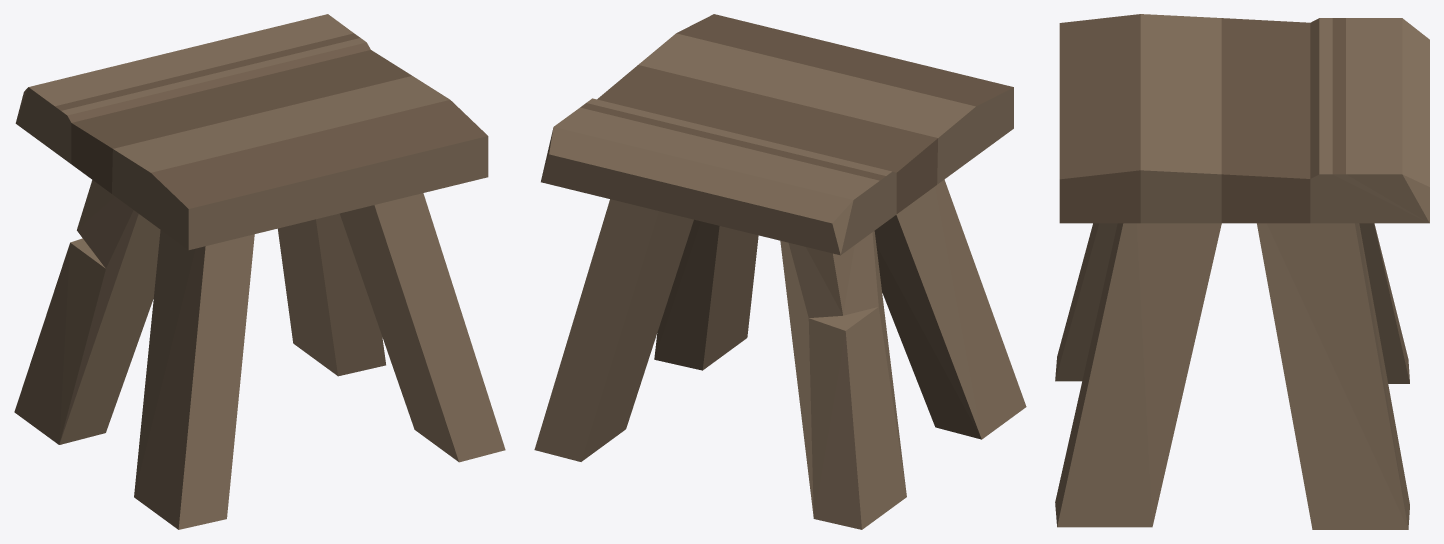
The model's file is EA03_Prop_Stool_01a.glb.
3 renders of one model, left to right at view 1: azimuth 30°, elevation 25°; view 2: azimuth 150°, elevation 25°; view 3: azimuth 270°, elevation 25°, orthographic. The views are drawn at different scales.
Parts seen in each view (by area): view 1: EA03_Prop_Stool_01a; view 2: EA03_Prop_Stool_01a; view 3: EA03_Prop_Stool_01a.
Part boxes in pixels (bbox=[...]): EA03_Prop_Stool_01a: bbox=[14, 14, 505, 529]; EA03_Prop_Stool_01a: bbox=[534, 14, 1026, 529]; EA03_Prop_Stool_01a: bbox=[1055, 14, 1429, 529].
Bounding box in the file's own units: 0.5301 × 0.5086 × 0.4919.
1 material, 1 textured.
